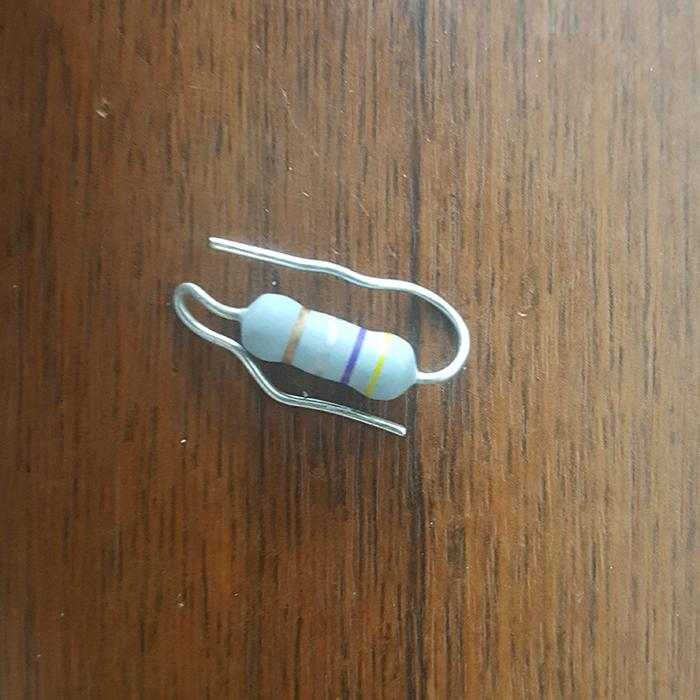resistor: (239, 292, 421, 401)
